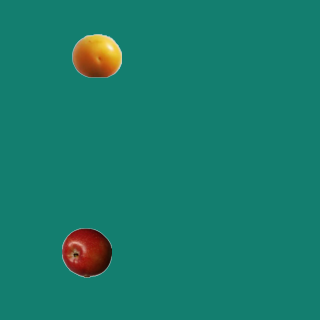Apple Braeburn: (61, 227, 111, 277)
Cherry Wax Yellow: (71, 30, 121, 80)
